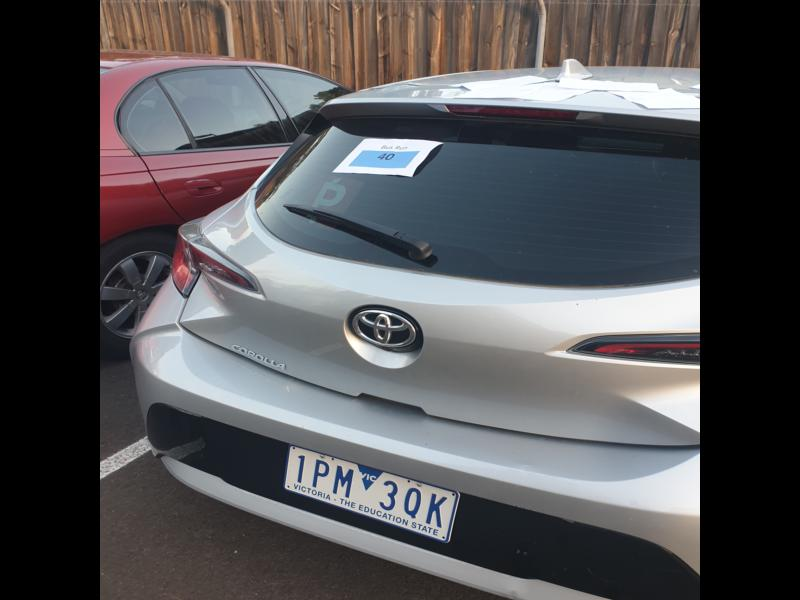BusRun: (349, 148, 418, 167)
PlateNo: (281, 445, 459, 542)
